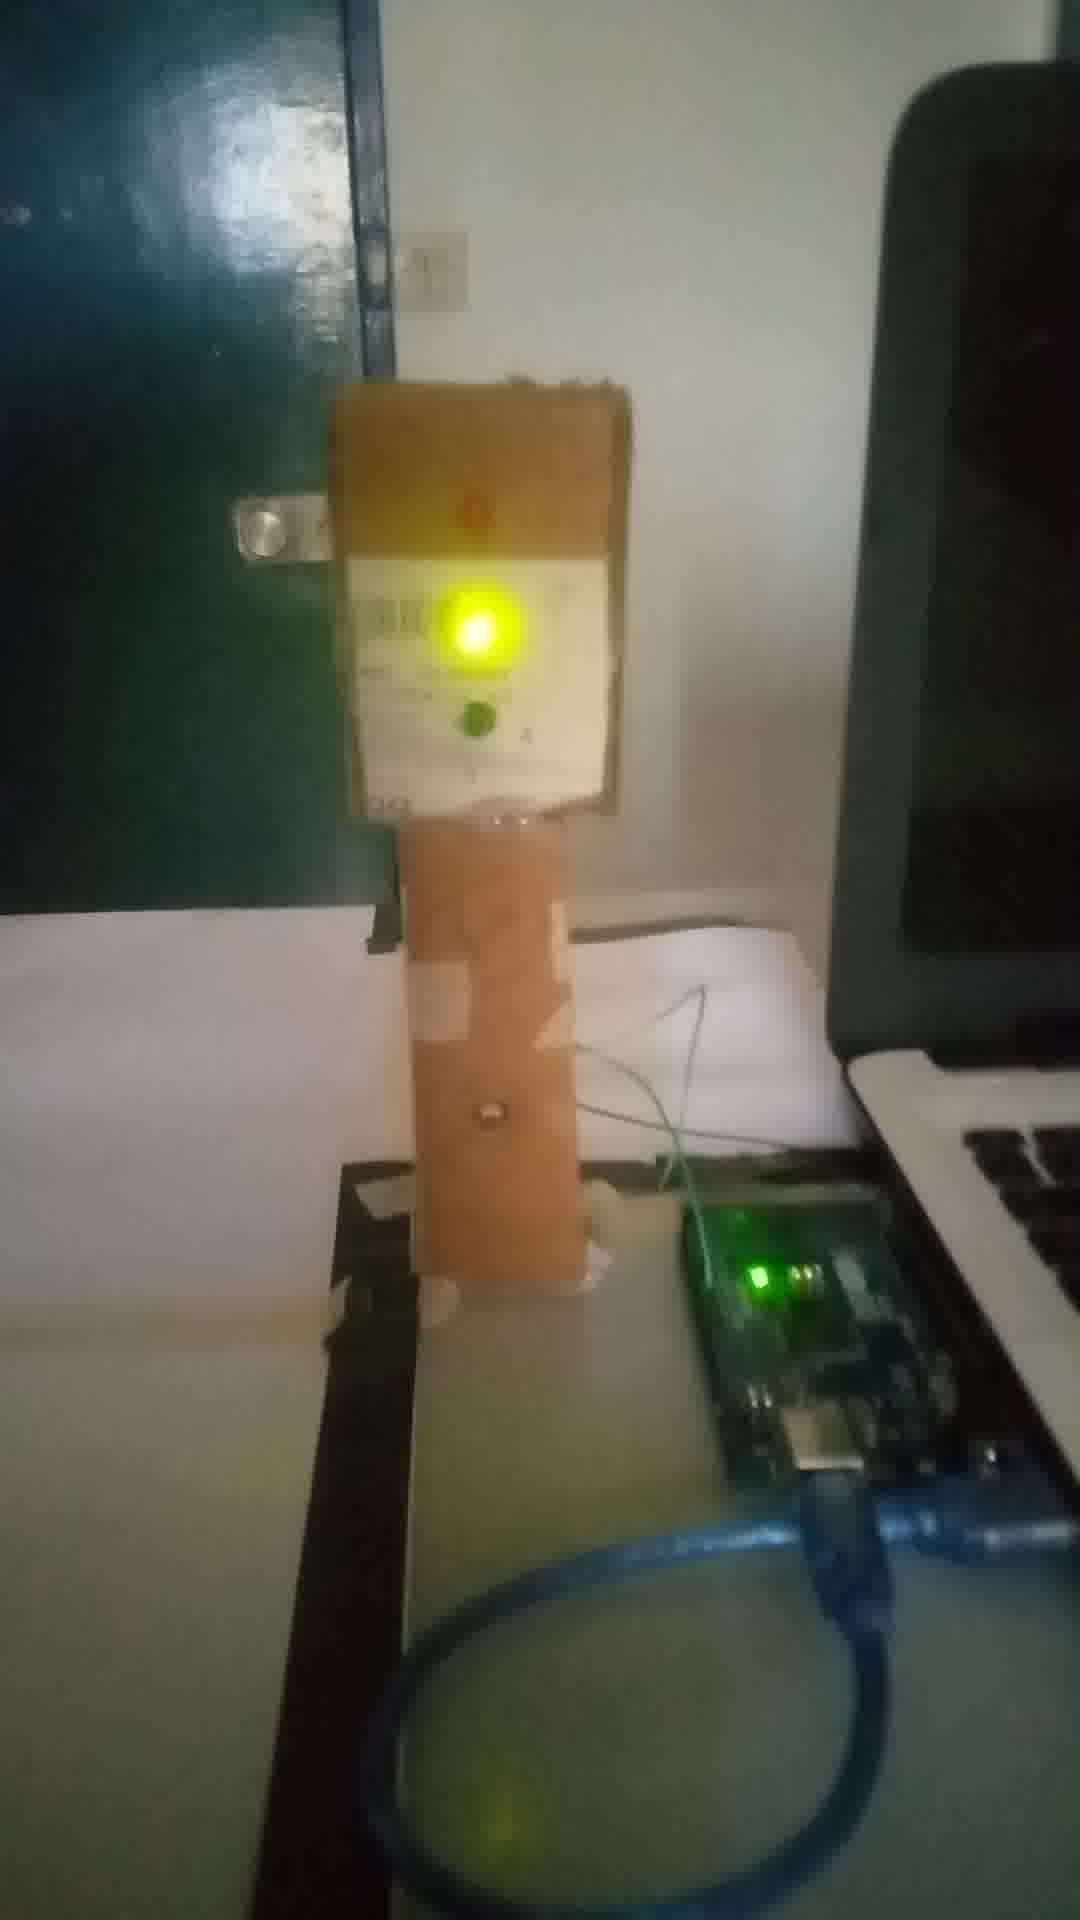yellow: (334, 404, 618, 818)
